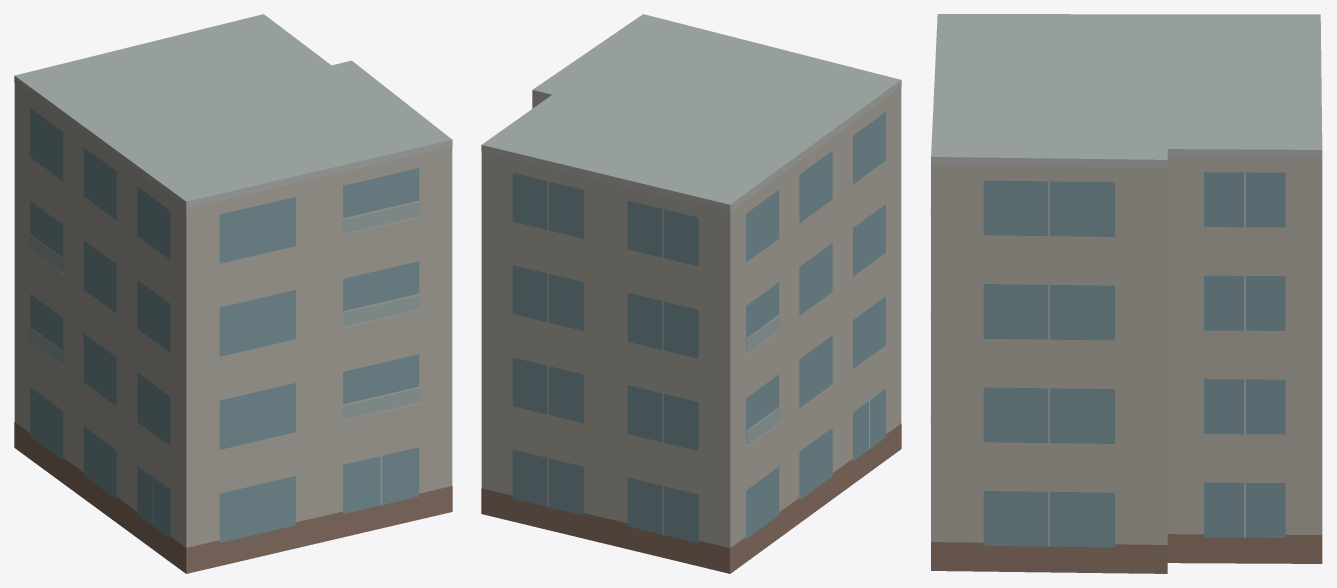
Rendered from survey-upis-32584563.glb.
The picture shows the model from 3 angles, left to right: view 1: azimuth 30°, elevation 25°; view 2: azimuth 150°, elevation 25°; view 3: azimuth 270°, elevation 25°; orthographic projection. The views are drawn at different scales.
Visible parts, largest first — view 1: survey-upis-32584563.tmp; view 2: survey-upis-32584563.tmp; view 3: survey-upis-32584563.tmp.
Boxes of the visible parts, x1,y1,x2,y2 form: survey-upis-32584563.tmp: (14,14,452,573); survey-upis-32584563.tmp: (481,14,901,573); survey-upis-32584563.tmp: (930,14,1322,573).
Size of the model in its own units: 9.79 by 12.9 by 11.08.
